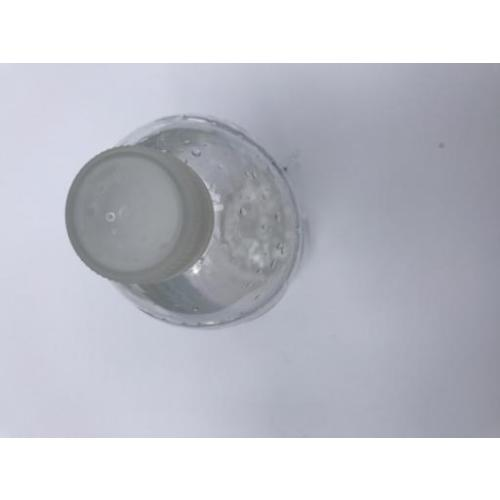plastic: (66, 117, 299, 330)
